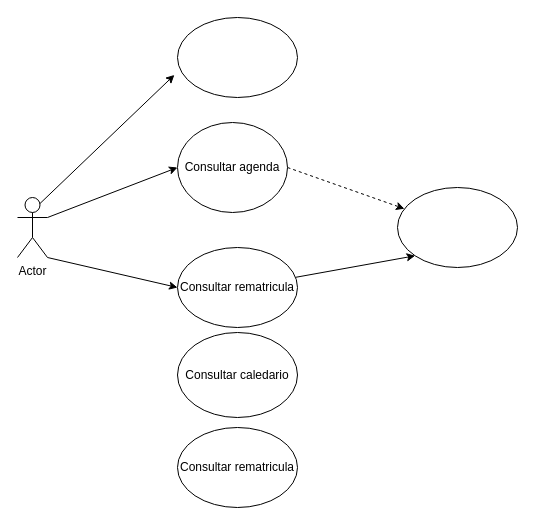
The diagram is 535 pixels wide and 525 high, and some of its shapes have lost their labels. The centre of each missing label's shape, as x and y in pixels:
"Consultar Mural" belongs at (237,57).
"Fazer loogin" belongs at (457,227).
